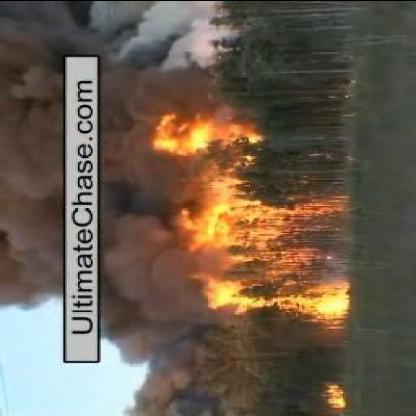-: (6, 82, 58, 306)
foggia-v2-map80-epoch100 - v1 4323: (309, 290, 344, 322)
